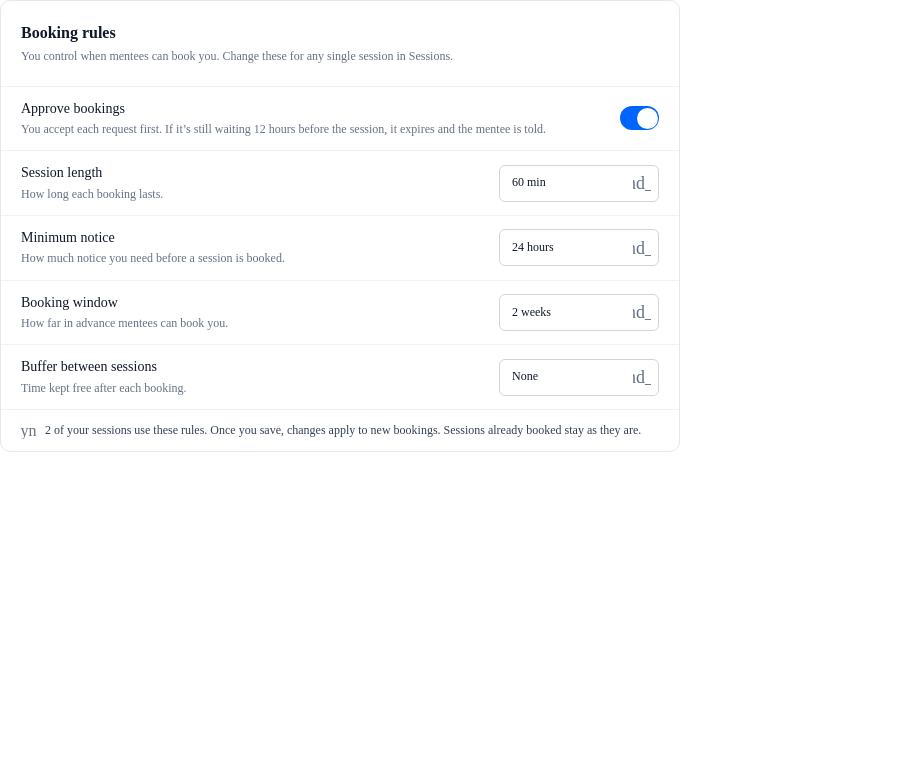
Test case: BookingPanel › Discard puts back what’s saved
The width and height of the screenshot is (907, 768).
Click the switch at (640, 118), box [620, 106, 659, 130]
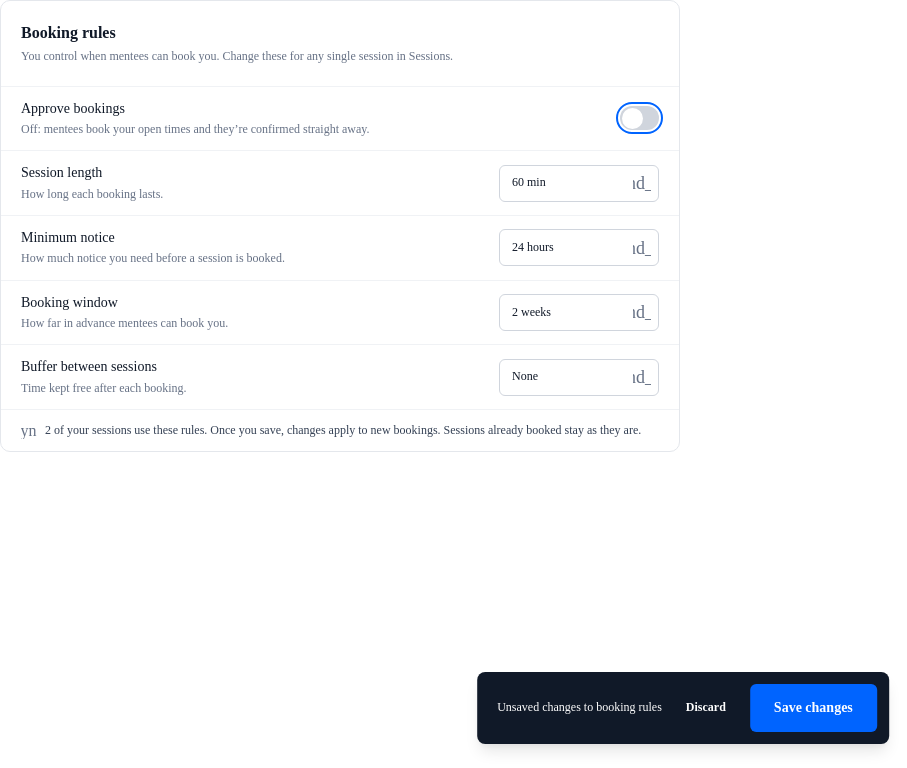
Click the button "Discard" at (706, 708), box [678, 699, 734, 717]
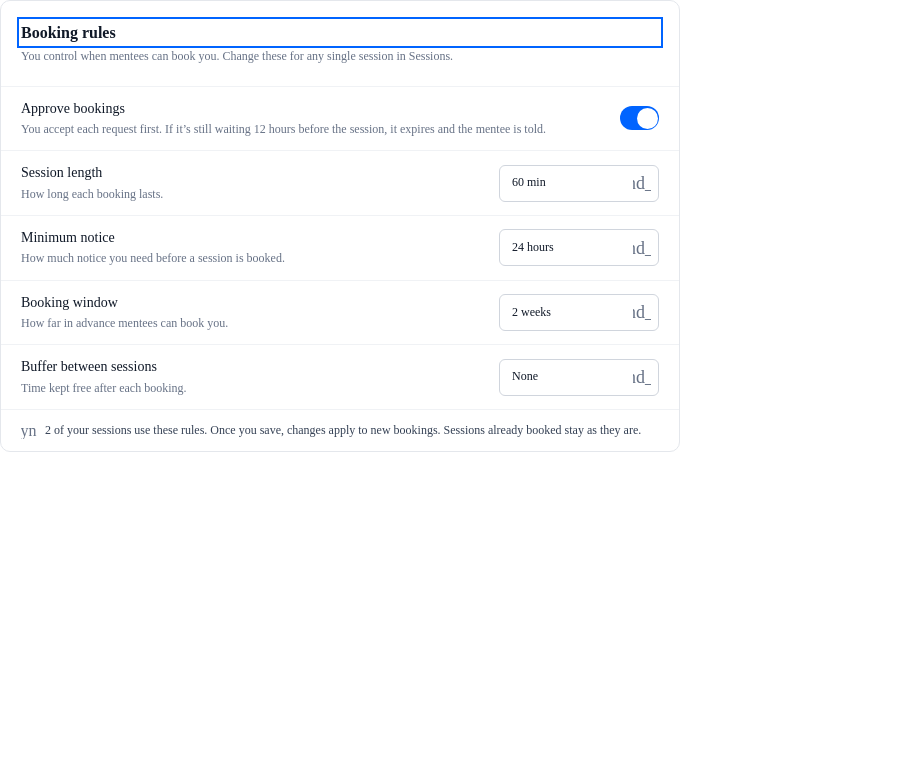
Check: the text "Unsaved changes" is gone
